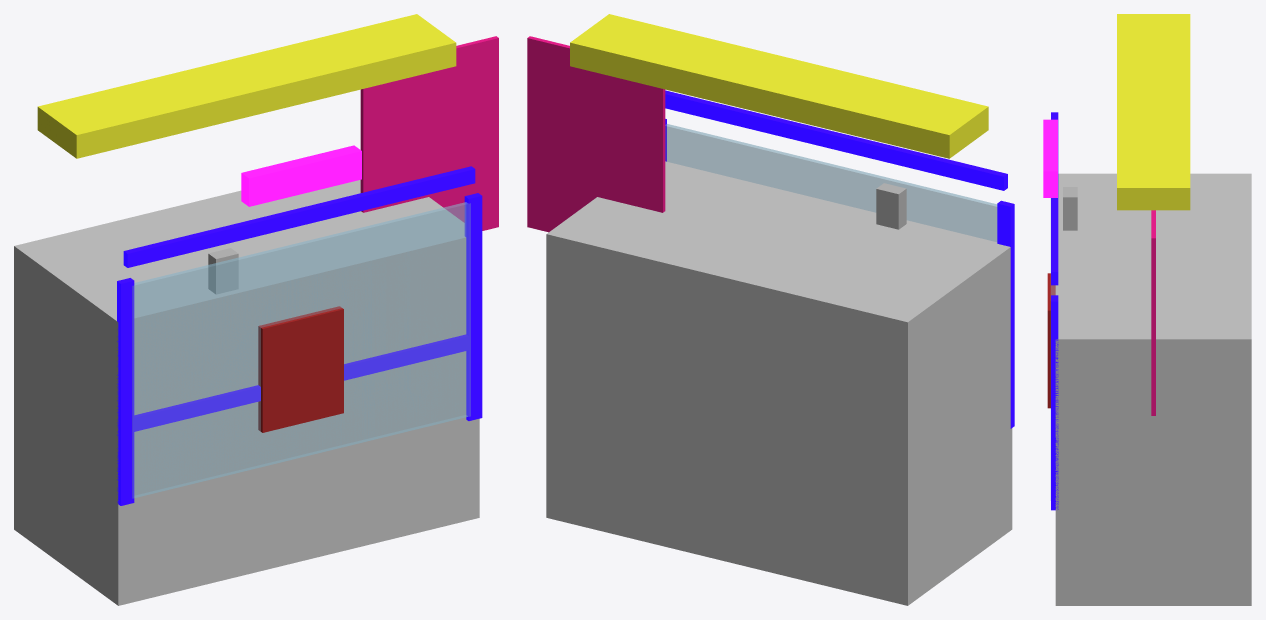
Rendered from storefronts.glb.
3 renders of one model, left to right at view 1: azimuth 30°, elevation 25°; view 2: azimuth 150°, elevation 25°; view 3: azimuth 270°, elevation 25°, orthographic. The views are drawn at different scales.
Bounding box in the file's own units: 9.75 × 9.5 × 4.25.
